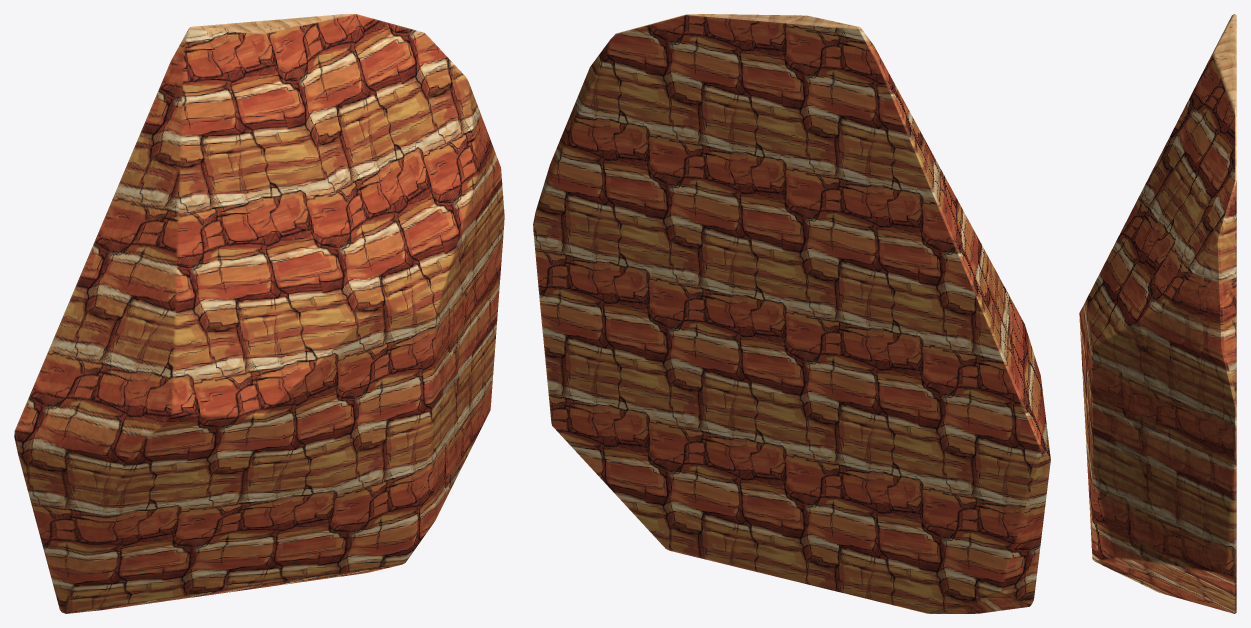
File: v4_cliff_e_01.glb
3 views of the same model, side by side, from view 1: azimuth 30°, elevation 25°; view 2: azimuth 150°, elevation 25°; view 3: azimuth 270°, elevation 25° (orthographic). The views are drawn at different scales.
Parts seen in each view (by area): view 1: v4_cliff_e_01; view 2: v4_cliff_e_01; view 3: v4_cliff_e_01.
Boxes of the visible parts, x1,y1,x2,y2 form: v4_cliff_e_01: (14,14,504,613); v4_cliff_e_01: (533,14,1050,613); v4_cliff_e_01: (1079,14,1236,613).
Bounding box in the file's own units: 7.46 × 7.97 × 2.2.
1 material, 1 textured.
